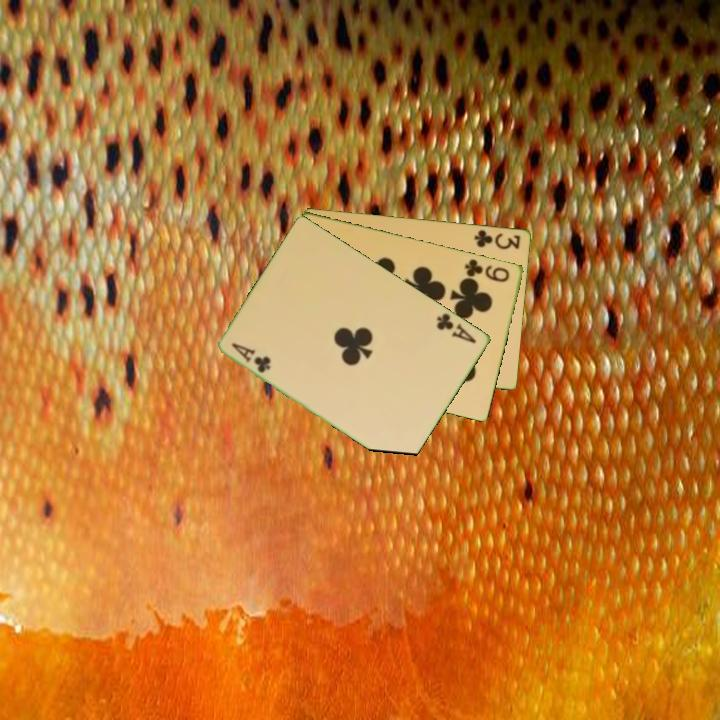3c: (471, 226, 523, 252)
9c: (461, 255, 513, 285)
Ac: (433, 309, 479, 346), (228, 339, 274, 376)
